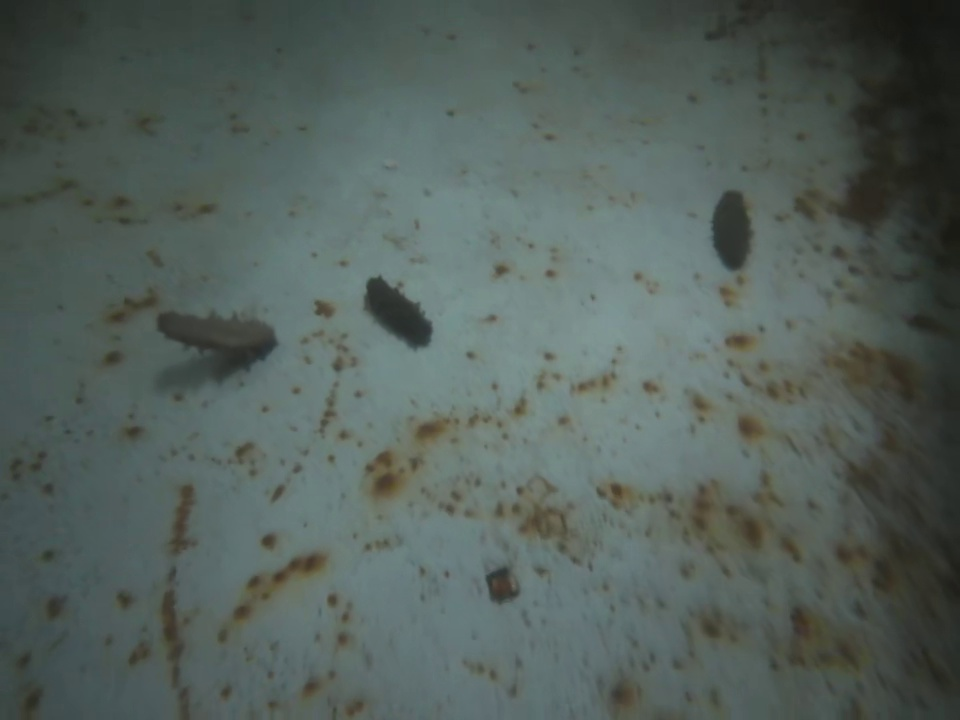seacucumber: (154, 308, 280, 358), (367, 271, 436, 347), (713, 186, 751, 273)
